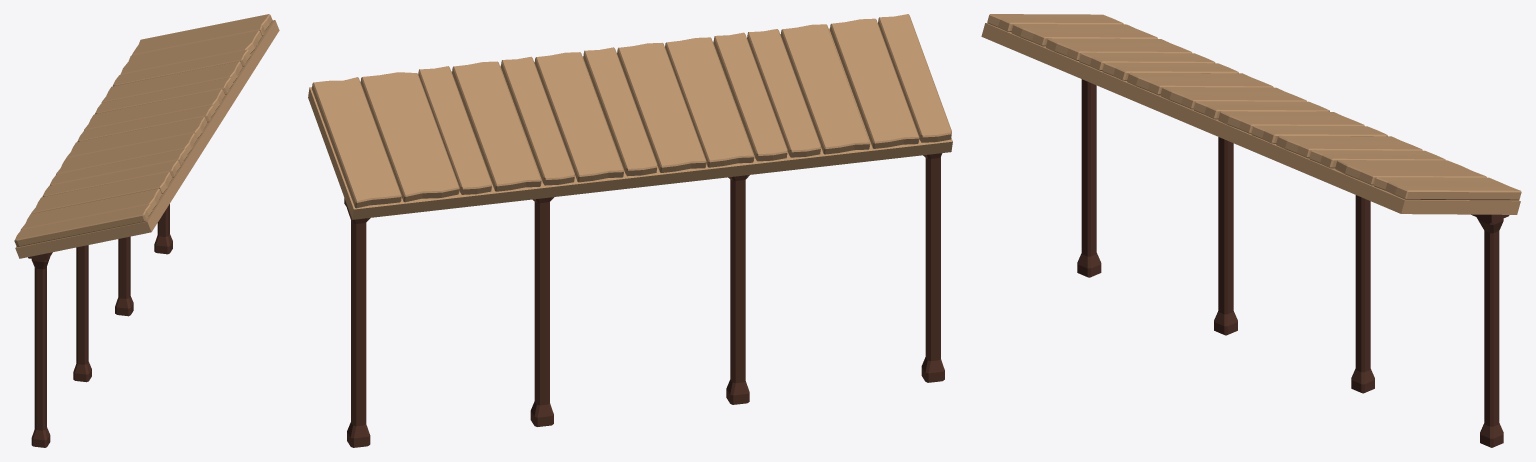
File: balcony-e.glb
The picture shows the model from 3 angles, left to right: view 1: azimuth 30°, elevation 25°; view 2: azimuth 150°, elevation 25°; view 3: azimuth 270°, elevation 25°; orthographic projection. The views are drawn at different scales.
Visible parts, largest first — view 1: Balcony E (×2); view 2: Balcony E (×2); view 3: Balcony E (×2).
Part boxes in pixels (x1,y1,x2,y2): Balcony E (×2): (14,14,279,447); Balcony E (×2): (308,14,952,447); Balcony E (×2): (981,14,1521,447).
Size of the model in its own units: 4.18 by 2.53 by 4.19.
